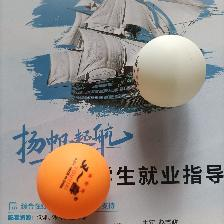WhiteBall: (132, 34, 206, 108)
YellowBall: (35, 142, 111, 219)
